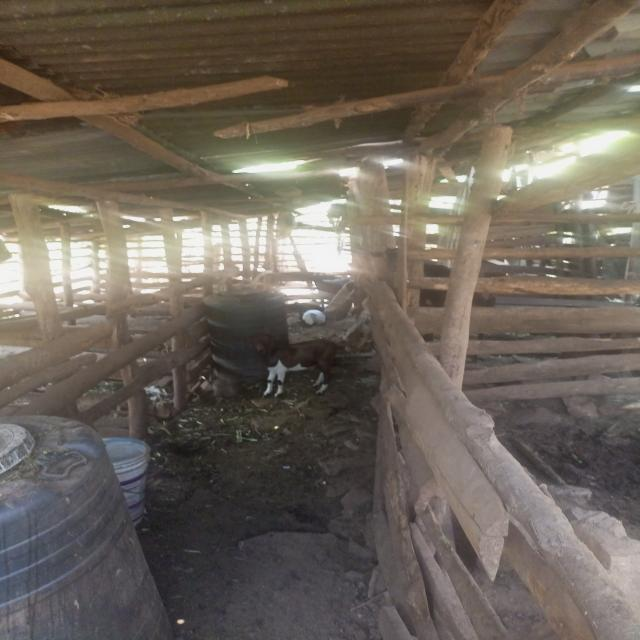goat: (232, 323, 355, 404)
